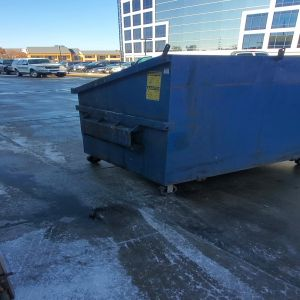Dumpster: (71, 53, 300, 198)
